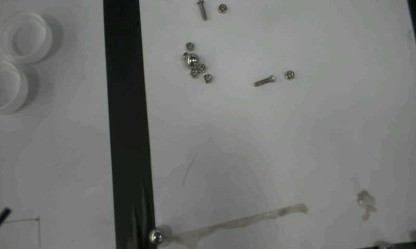ironball: (148, 228, 162, 245), (187, 55, 198, 67)
